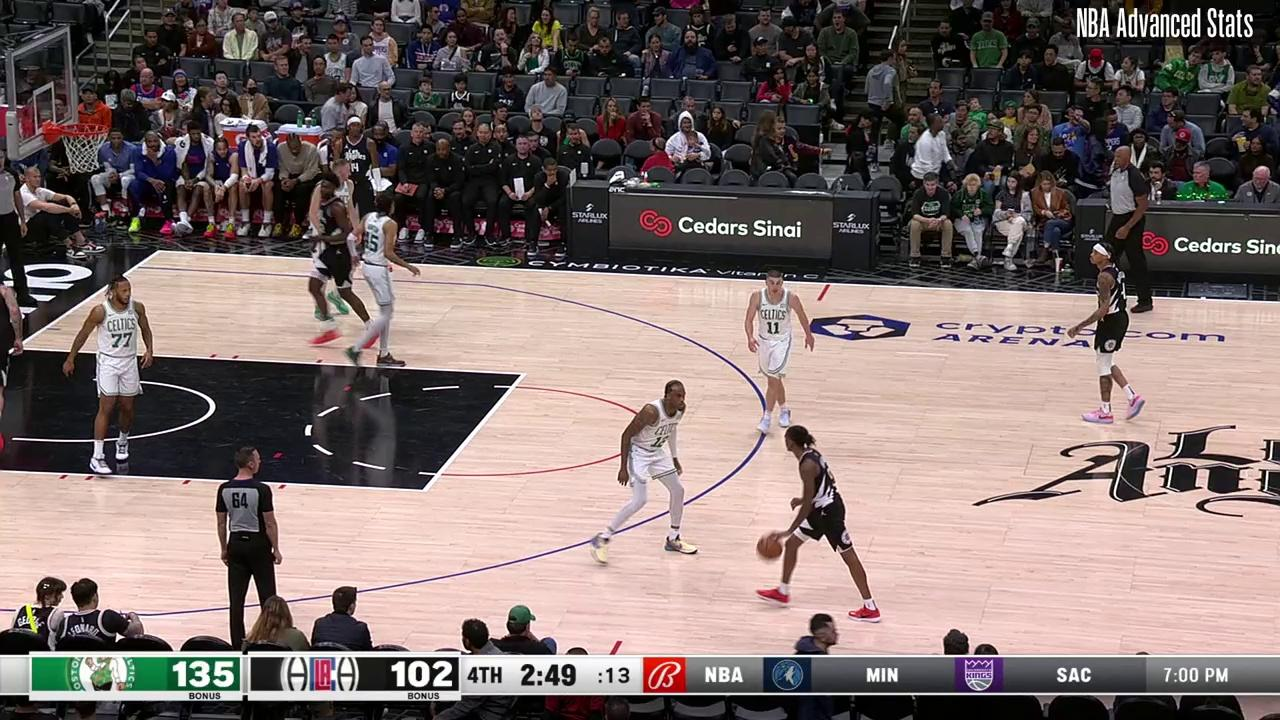3_dx: (131, 264, 140, 272)
b_dx: (153, 247, 166, 256)
free_adx: (517, 370, 527, 380)
free_asx: (416, 485, 433, 497)
mid_dx: (812, 295, 825, 304)
mid_sx: (614, 636, 625, 646)
referee: (217, 446, 289, 641), (1101, 144, 1156, 314), (0, 150, 40, 309)
team: (608, 378, 695, 562), (72, 278, 152, 475), (743, 267, 819, 430), (360, 192, 406, 371), (315, 160, 359, 313)
team1: (770, 423, 880, 620), (1079, 240, 1152, 429), (310, 176, 366, 340), (332, 117, 387, 264), (1, 274, 27, 448)
timer: (511, 660, 586, 693)
